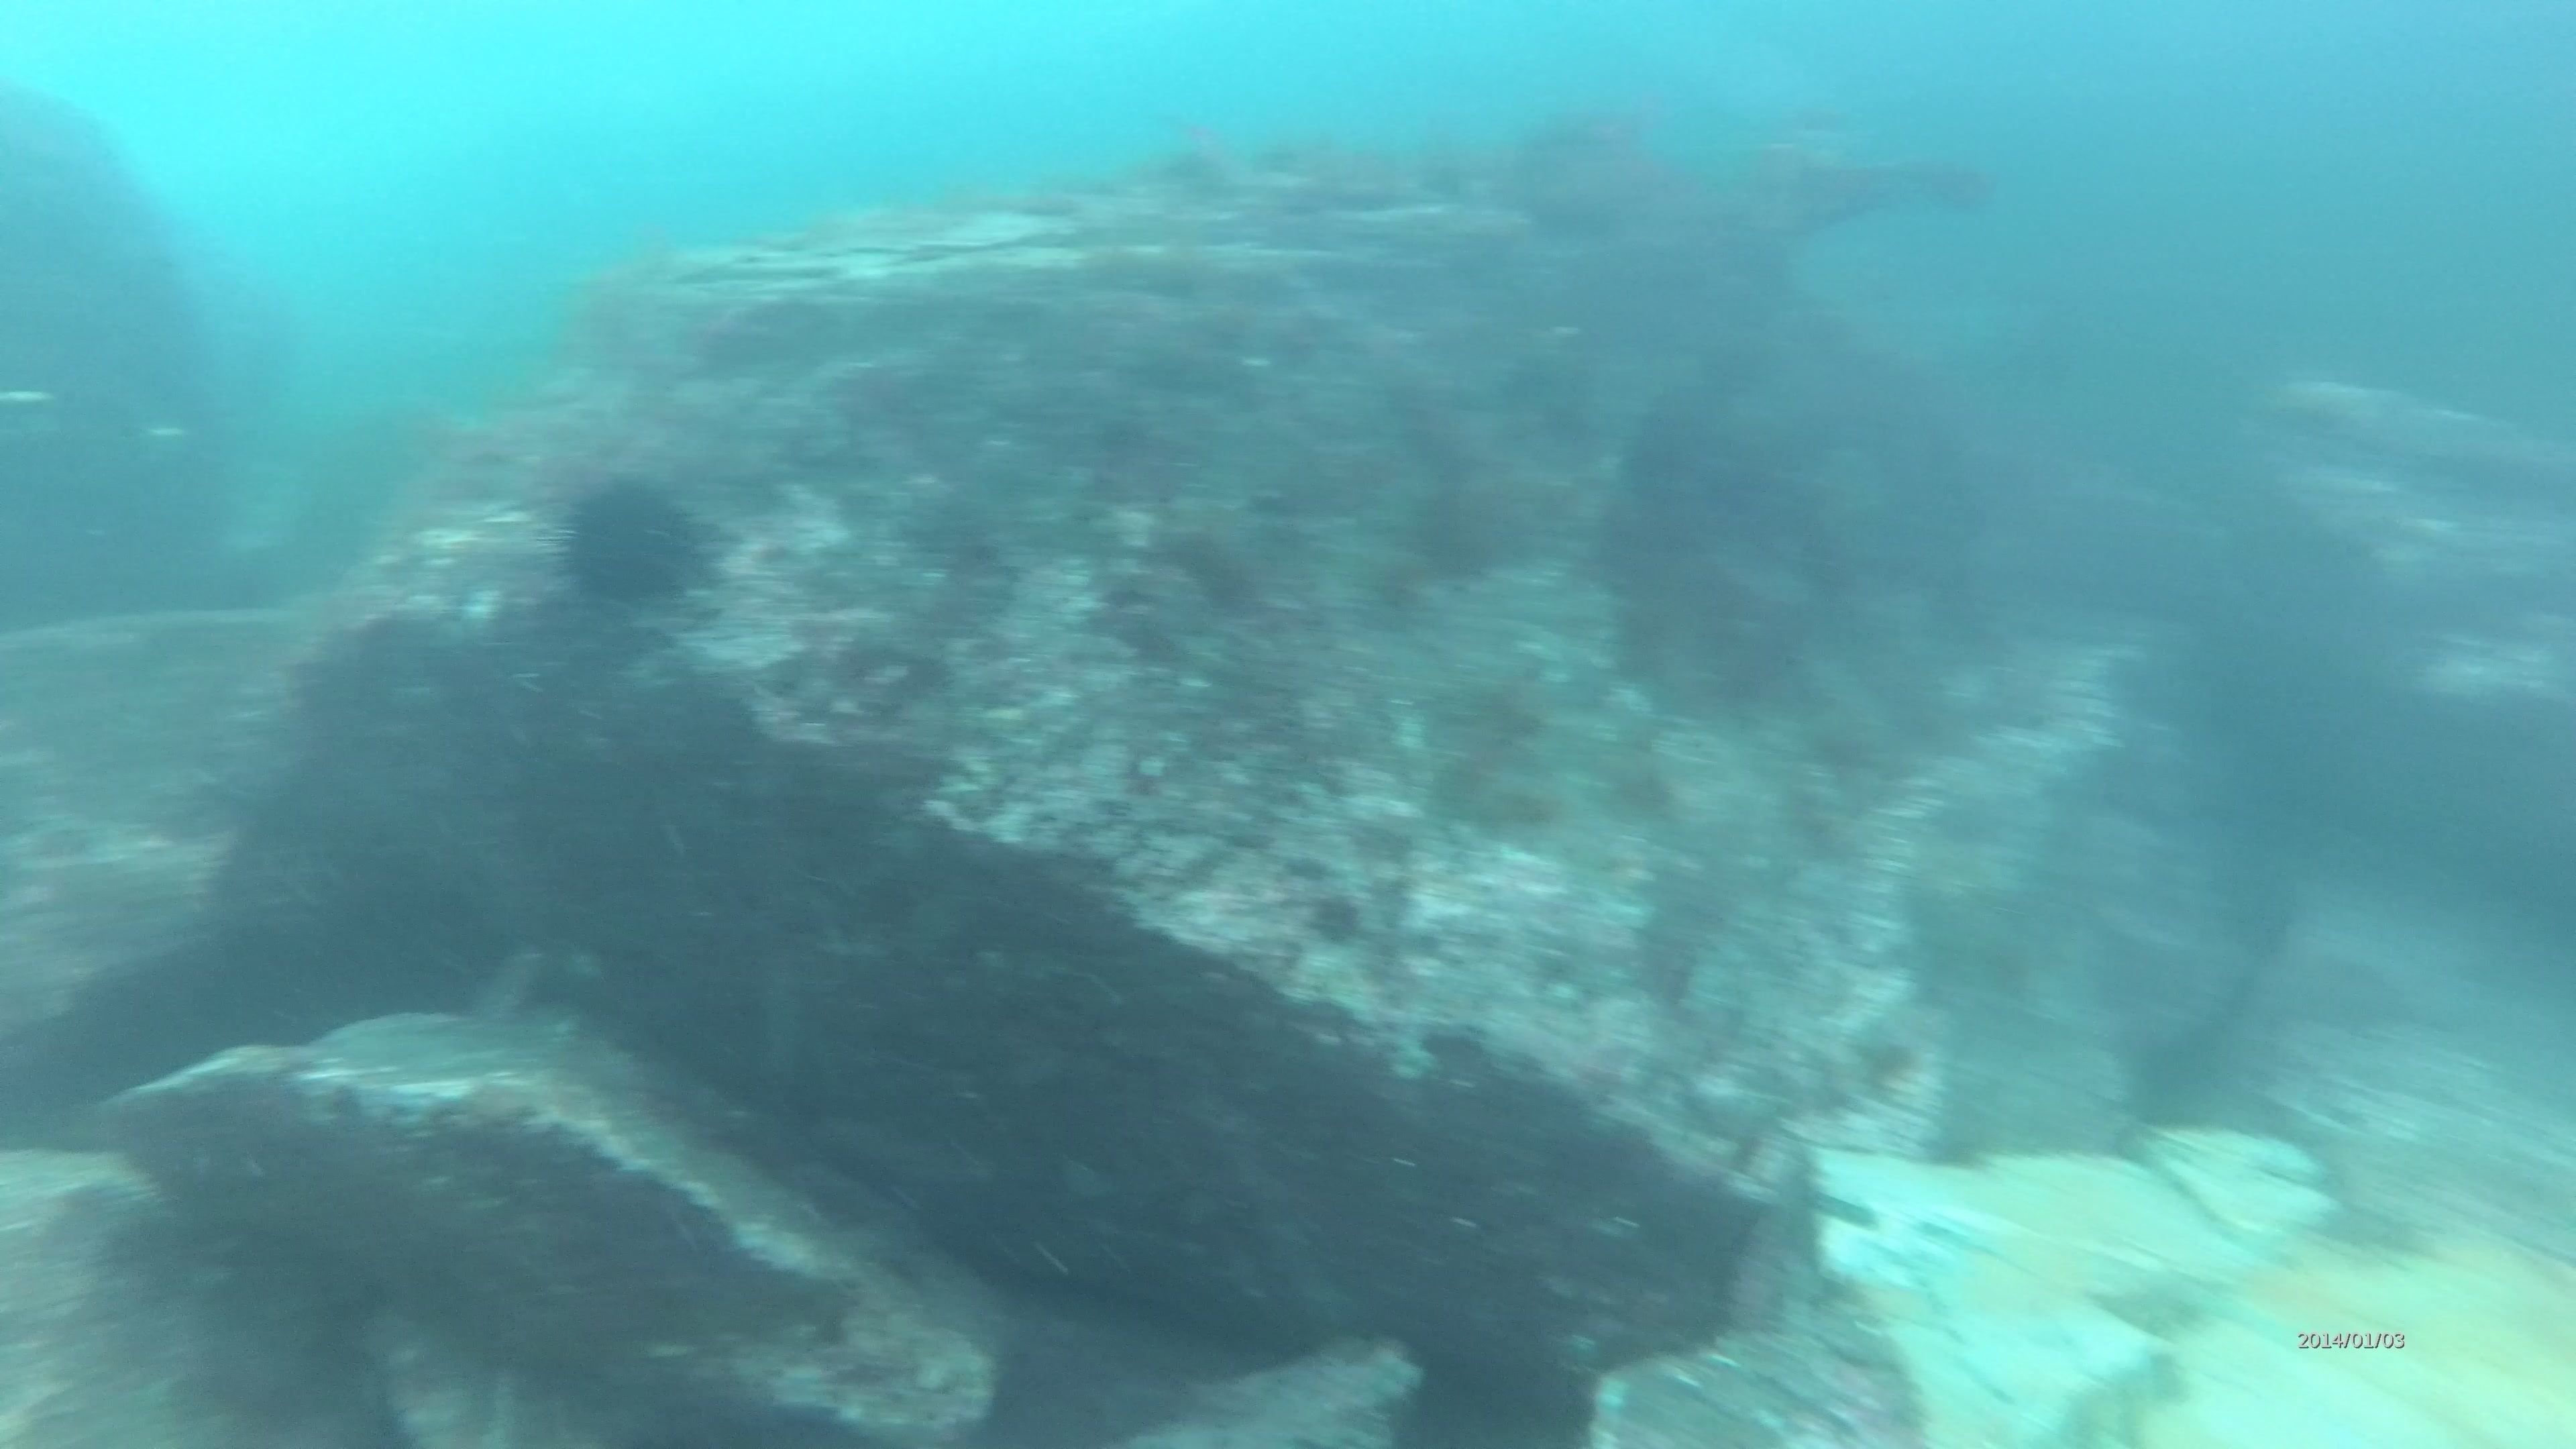echinus: (545, 467, 718, 616)
